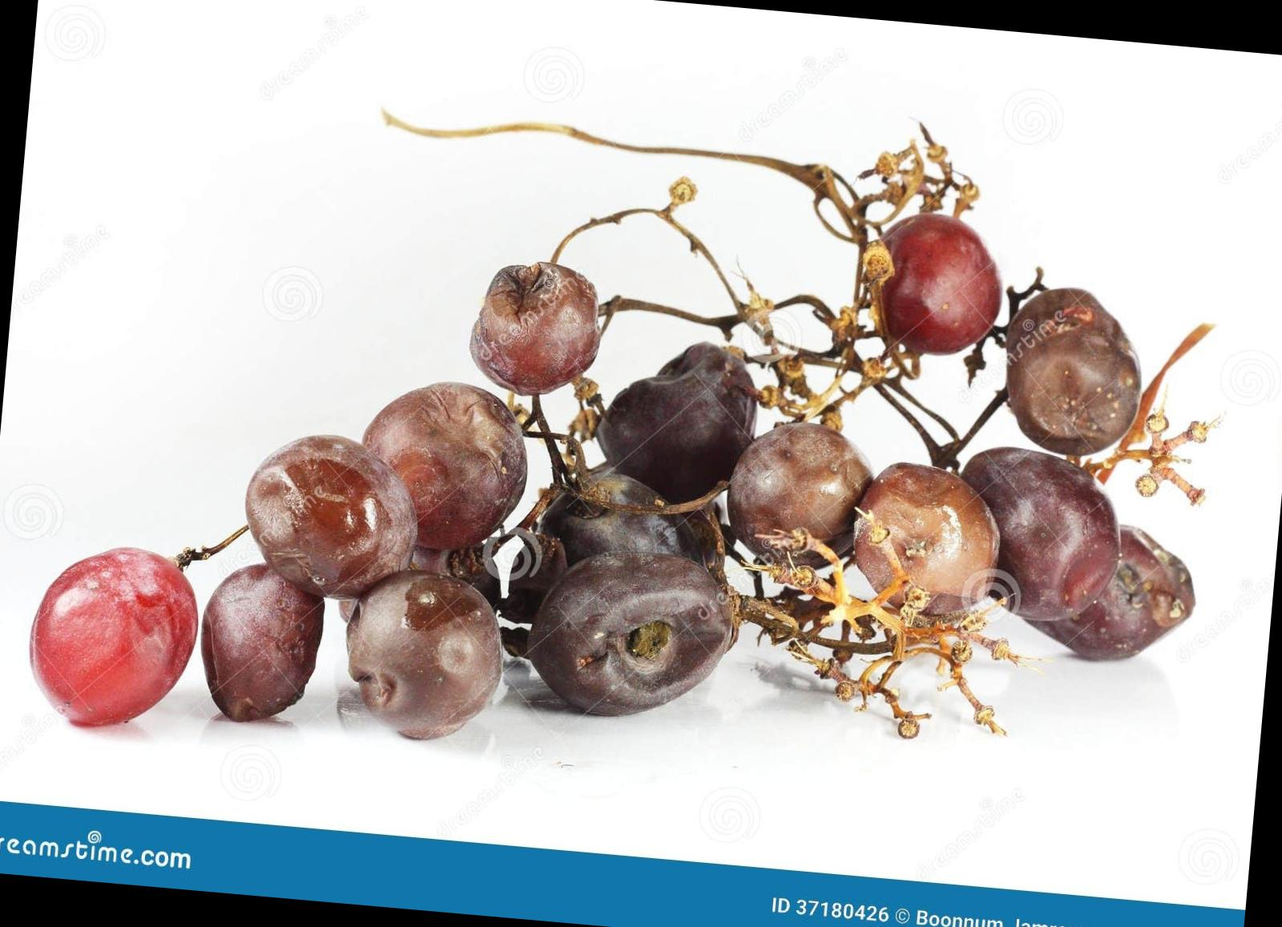Grape Rotten: (22, 49, 1245, 822)
